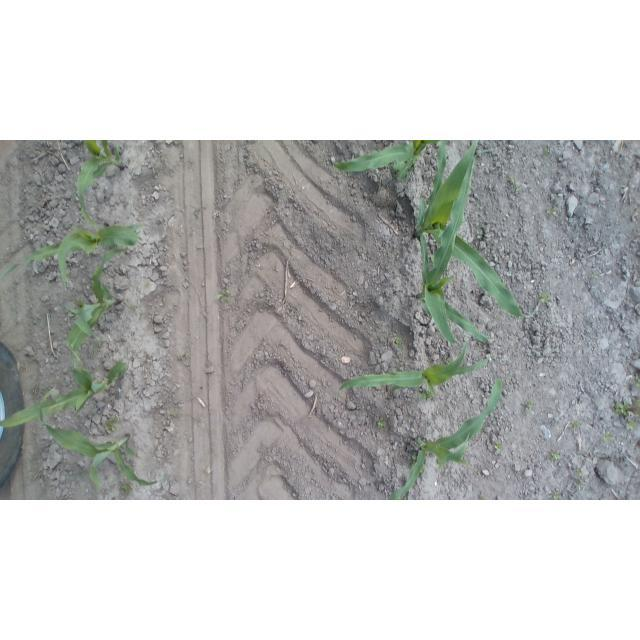Maize: (419, 140, 541, 318), (418, 148, 497, 352), (384, 376, 503, 500), (38, 387, 164, 494), (1, 353, 131, 432), (1, 222, 144, 289), (63, 247, 137, 365), (338, 338, 491, 394), (74, 140, 126, 230), (332, 141, 441, 182)
Weeds: (102, 415, 120, 434), (215, 290, 233, 307), (614, 400, 631, 417), (418, 387, 435, 403), (600, 430, 618, 445), (120, 481, 136, 495), (175, 354, 193, 366), (522, 398, 537, 412), (578, 469, 587, 492), (623, 418, 637, 432), (547, 206, 558, 223), (540, 292, 553, 305), (568, 419, 583, 429), (171, 412, 182, 425), (75, 298, 86, 311), (493, 442, 504, 455), (551, 451, 562, 462), (634, 372, 640, 392), (587, 272, 598, 282), (376, 418, 387, 428), (410, 454, 419, 466), (419, 466, 428, 478), (479, 494, 496, 500), (477, 230, 486, 240), (514, 186, 523, 195), (544, 144, 553, 153), (446, 356, 455, 365), (508, 175, 516, 185), (552, 491, 562, 499), (634, 398, 640, 409), (396, 336, 403, 345)
